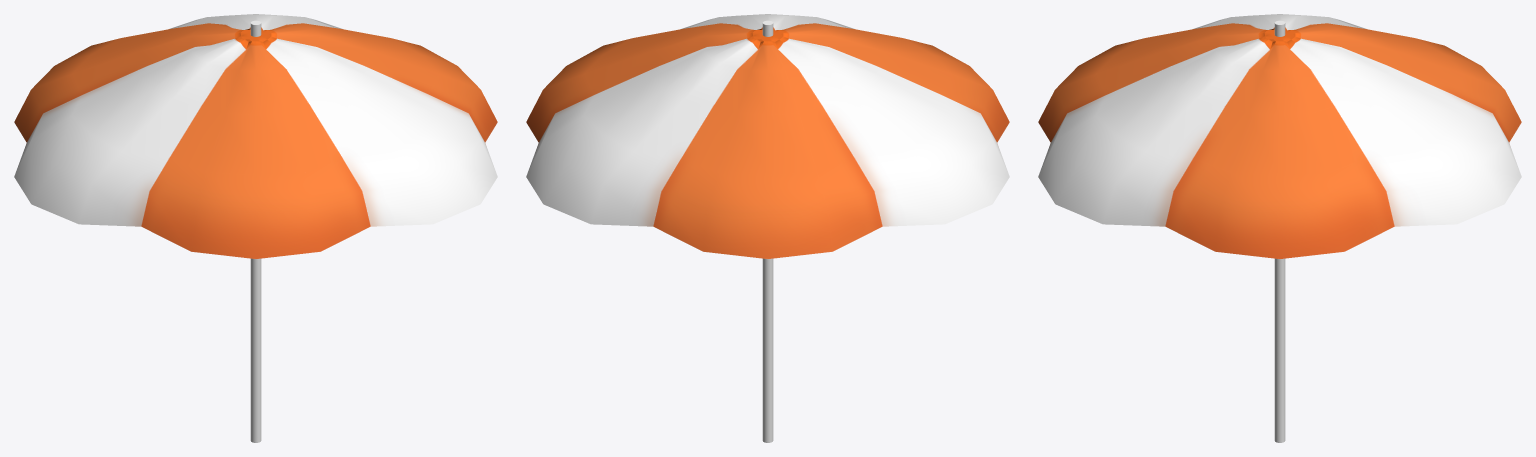
The model's file is hibiscus_umbrella_model.fbx.
3 views of the same model, side by side, from view 1: azimuth 30°, elevation 25°; view 2: azimuth 150°, elevation 25°; view 3: azimuth 270°, elevation 25° (orthographic).
Parts seen in each view (by area): view 1: hibiscus_umb; view 2: hibiscus_umb; view 3: hibiscus_umb.
Boxes of the visible parts, x1=… form: hibiscus_umb: x1=14, y1=14, x2=497, y2=442; hibiscus_umb: x1=526, y1=14, x2=1009, y2=442; hibiscus_umb: x1=1038, y1=14, x2=1521, y2=442.
Size of the model in its own units: 7.28 by 6.47 by 6.79.
